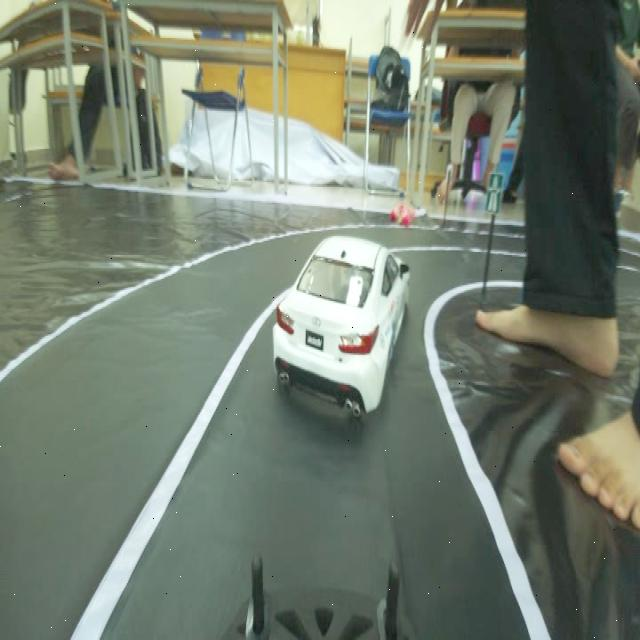car: (268, 216, 391, 410)
highway_entry: (481, 165, 508, 220)
